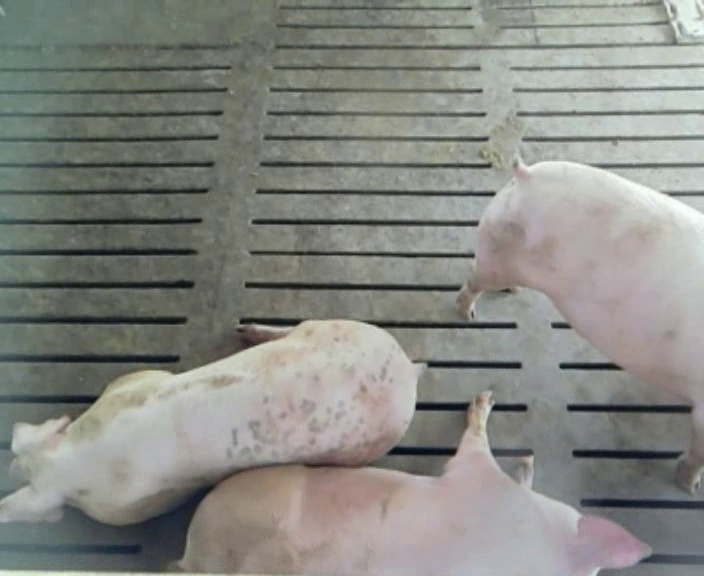pig: (182, 391, 650, 574), (0, 322, 420, 524), (457, 161, 703, 492)
